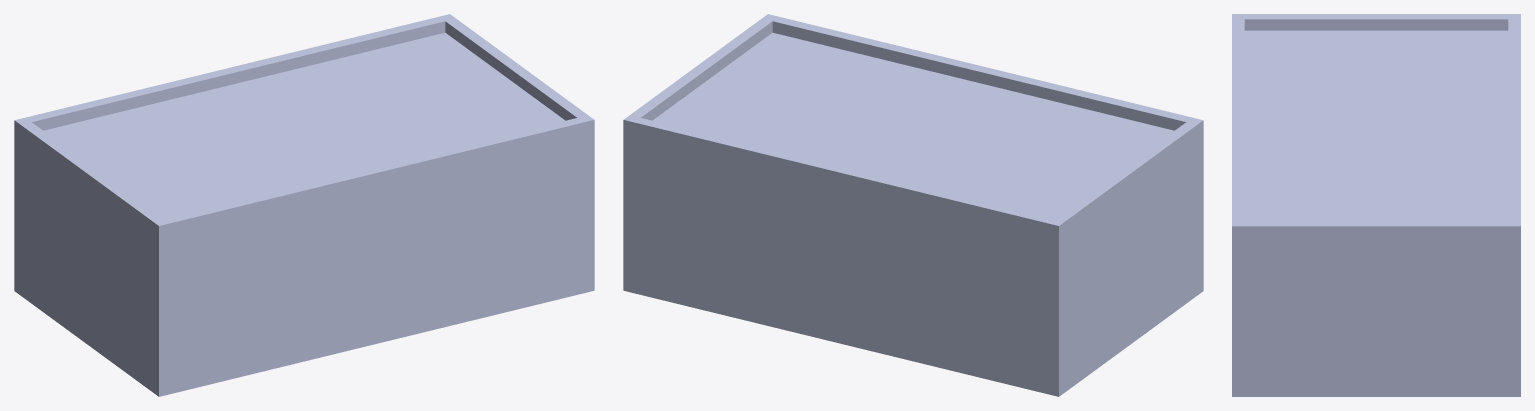
Rendered from Wallmount - 40in._y.fbx.
3 renders of one model, left to right at view 1: azimuth 30°, elevation 25°; view 2: azimuth 150°, elevation 25°; view 3: azimuth 270°, elevation 25°, orthographic.
Visible parts, largest first — view 1: Body_1; view 2: Body_1; view 3: Body_1.
Boxes of the visible parts, <box> form: Body_1: <box>14,14,594,396</box>; Body_1: <box>623,14,1203,396</box>; Body_1: <box>1232,14,1520,396</box>.
Size of the model in its own units: 1.02 by 0.5842 by 0.381.
